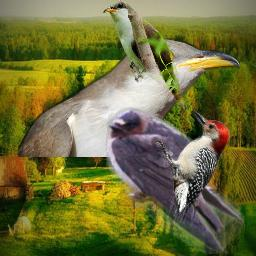Cuckoo: (18, 38, 240, 157), (100, 0, 192, 111)
Swallow: (104, 107, 244, 254)
Woodpecker: (151, 108, 233, 228)
